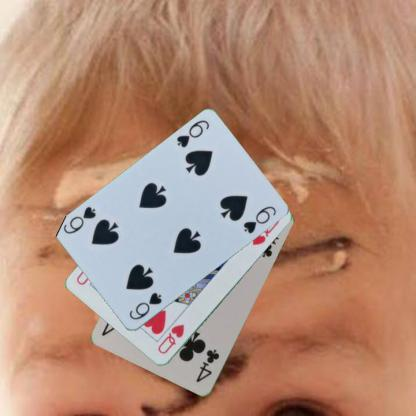4c: (193, 347, 221, 384)
6s: (173, 117, 211, 150), (126, 290, 163, 322)
Qh: (155, 322, 186, 356)
